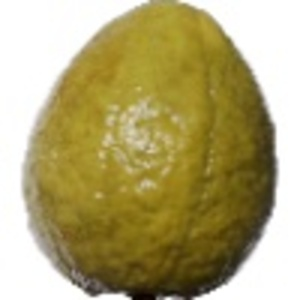goiaba: (18, 4, 283, 297)
